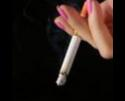Cigarette: (55, 1, 88, 84)
